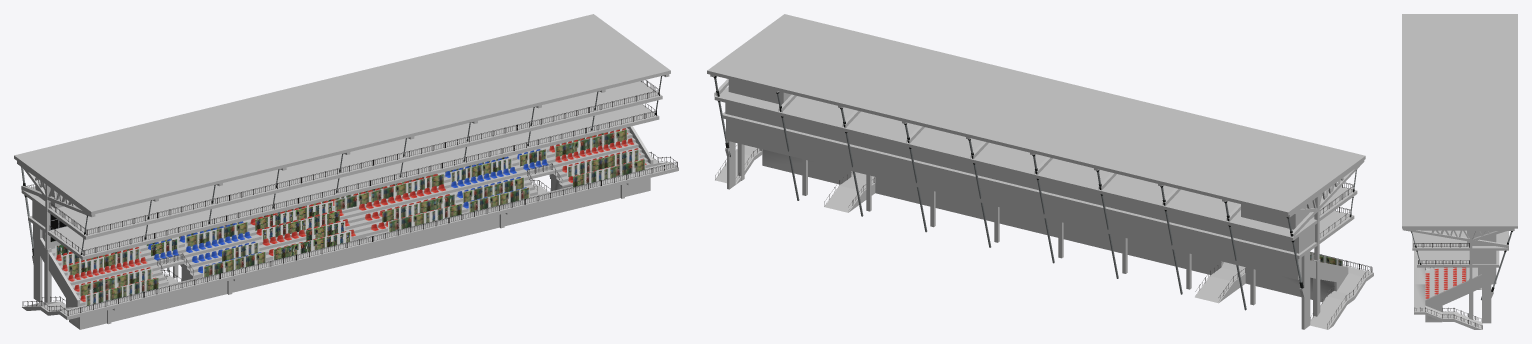
Rendered from GrandStand-06.fbx.
3 renders of one model, left to right at view 1: azimuth 30°, elevation 25°; view 2: azimuth 150°, elevation 25°; view 3: azimuth 270°, elevation 25°, orthographic. The views are drawn at different scales.
Visible parts, largest first — view 1: GrandStand-06, Audience; view 2: GrandStand-06; view 3: GrandStand-06.
Part boxes in pixels (x1=…): GrandStand-06: x1=14, y1=14, x2=678, y2=329; Audience: x1=55, y1=129, x2=645, y2=305; GrandStand-06: x1=707, y1=14, x2=1373, y2=329; GrandStand-06: x1=1402, y1=14, x2=1517, y2=329.
Size of the model in its own units: 9589 by 1965 by 2095.
